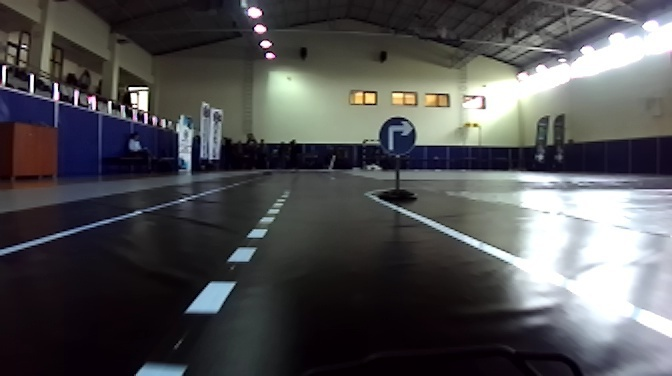saga_donus: (375, 115, 415, 155)
